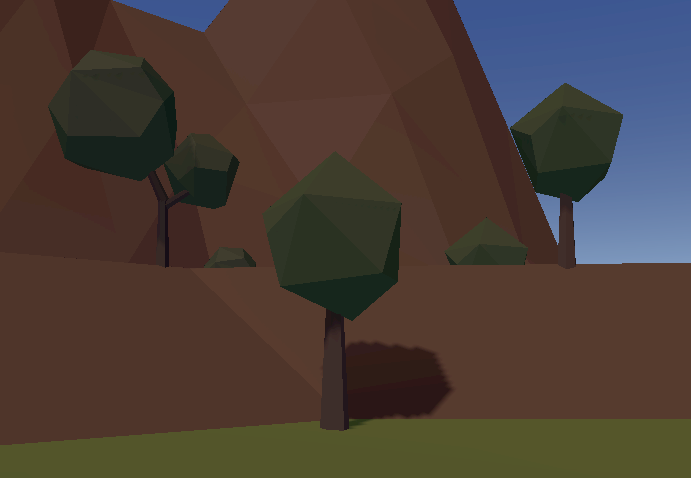tree: (47, 49, 241, 269), (263, 151, 406, 432), (508, 81, 624, 266), (443, 217, 528, 267)
